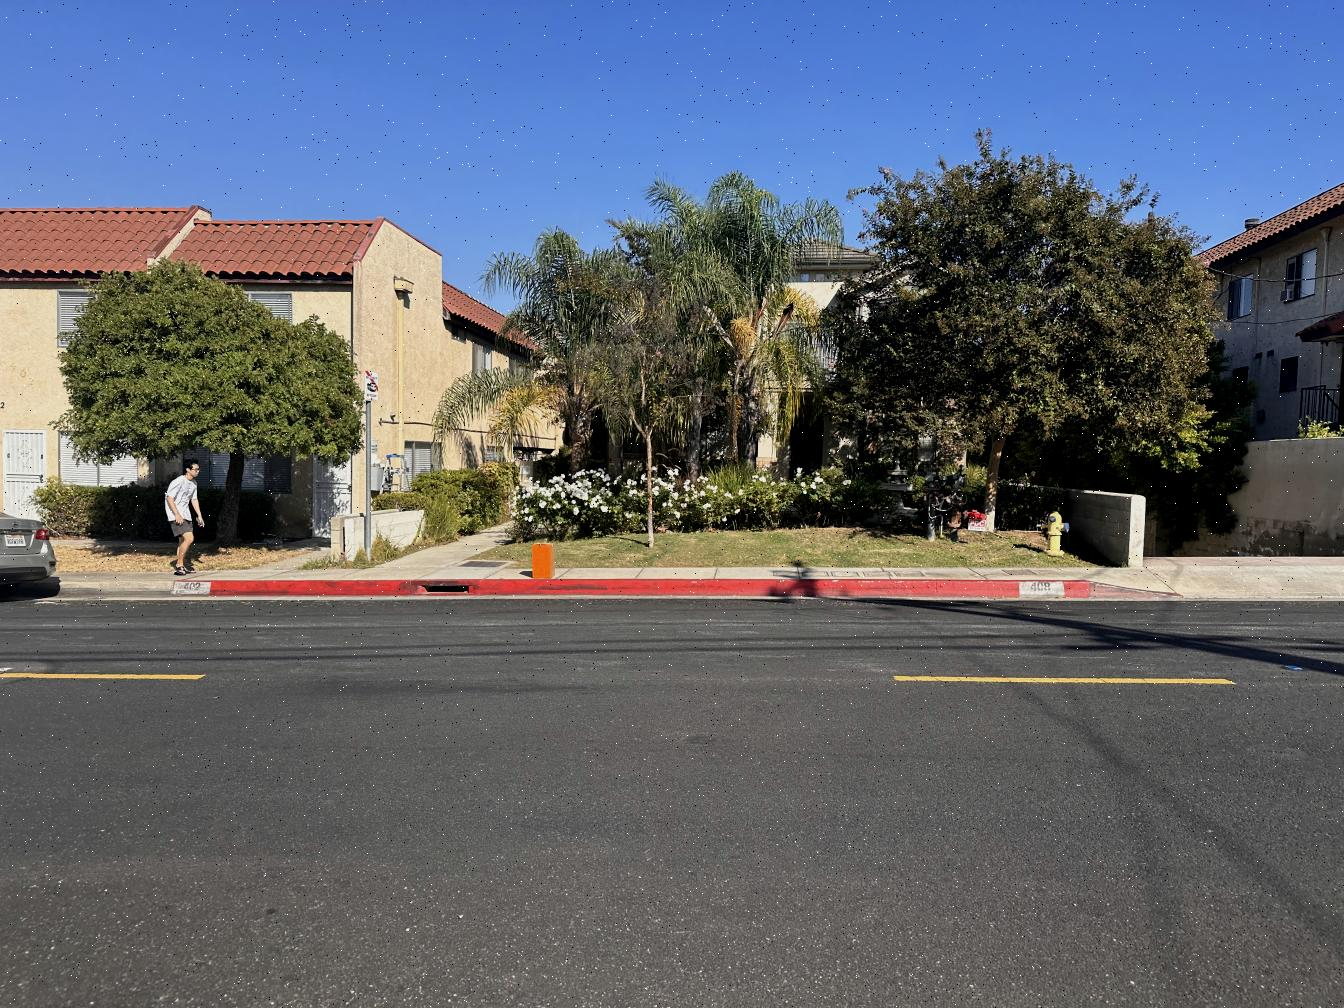curbs-laRr: (52, 577, 208, 600)
orange box: (531, 541, 556, 578)
